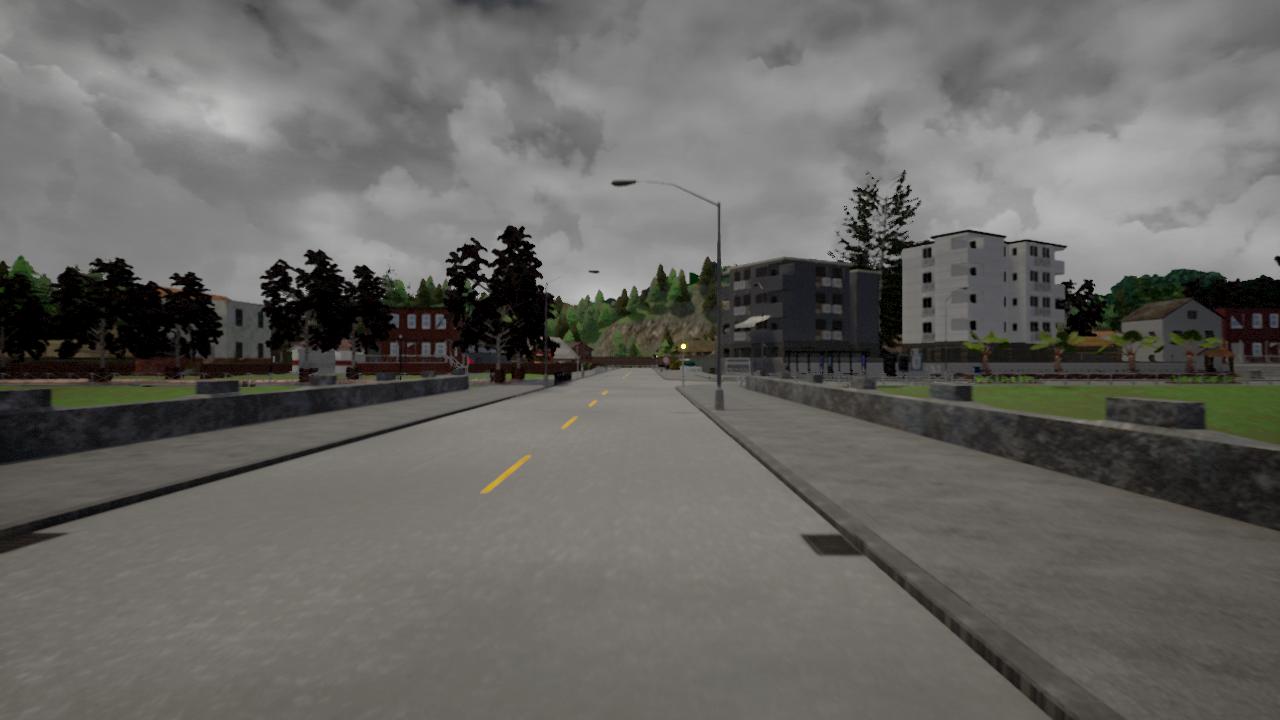yellow: (680, 338, 687, 356)
